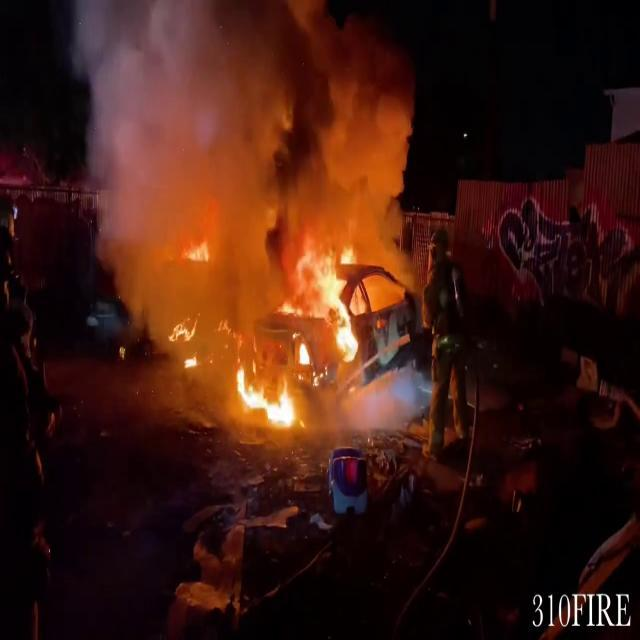Fire: (296, 235, 362, 358), (226, 358, 308, 430)
Smoke: (68, 0, 416, 259)
